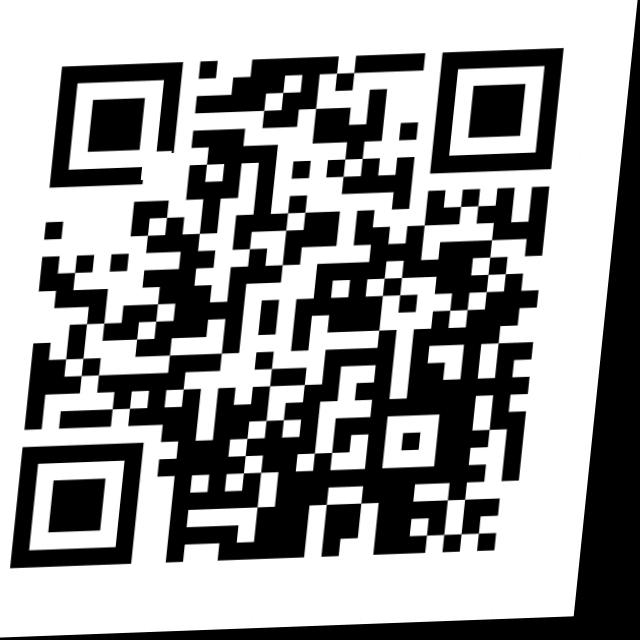QR_CODE: (4, 35, 591, 595)
